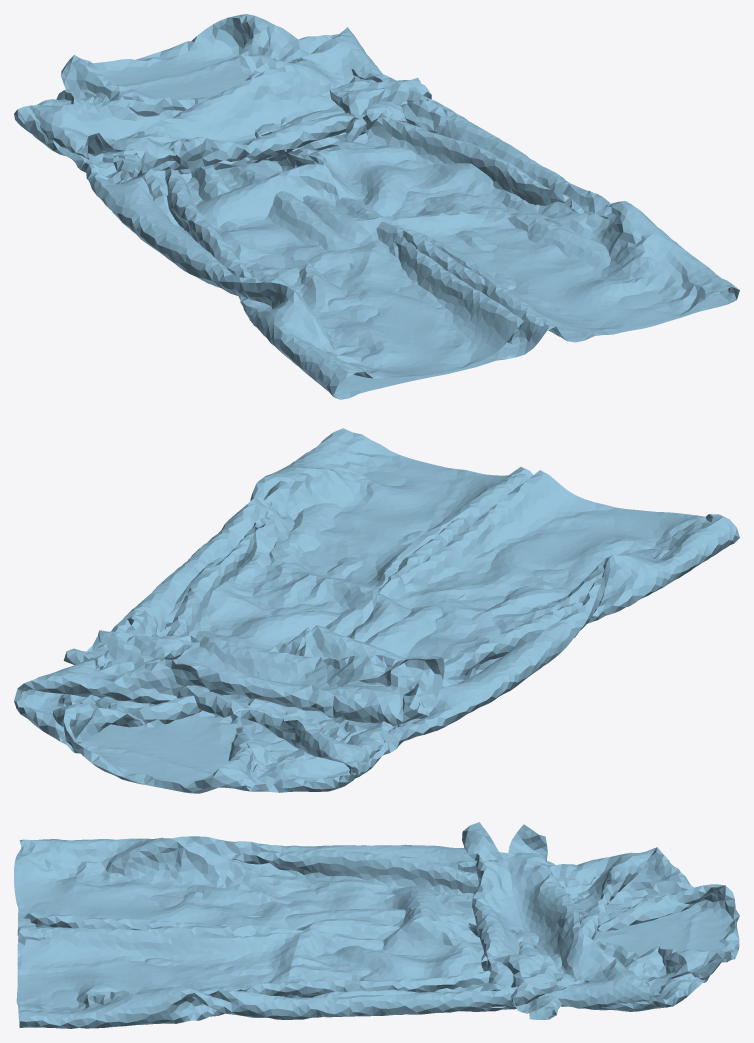
Rendered from frame_00.glb.
3 views of the same model, one above another, from view 1: azimuth 30°, elevation 25°; view 2: azimuth 150°, elevation 25°; view 3: azimuth 270°, elevation 25° (orthographic). The views are drawn at different scales.
Parts seen in each view (by area): view 1: frame_00.obj; view 2: frame_00.obj; view 3: frame_00.obj.
Part boxes in pixels (<box>): frame_00.obj: <box>14,14,739,399</box>; frame_00.obj: <box>14,428,739,793</box>; frame_00.obj: <box>14,822,739,1028</box>.
Bounding box in the file's own units: 0.976 × 0.1401 × 1.67.
